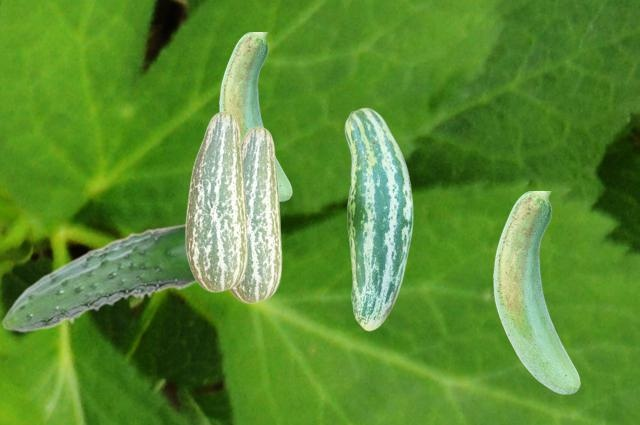cucumber: (1, 222, 197, 331), (493, 191, 579, 393), (344, 107, 412, 330), (219, 32, 291, 200), (185, 111, 247, 291), (229, 126, 281, 302)
